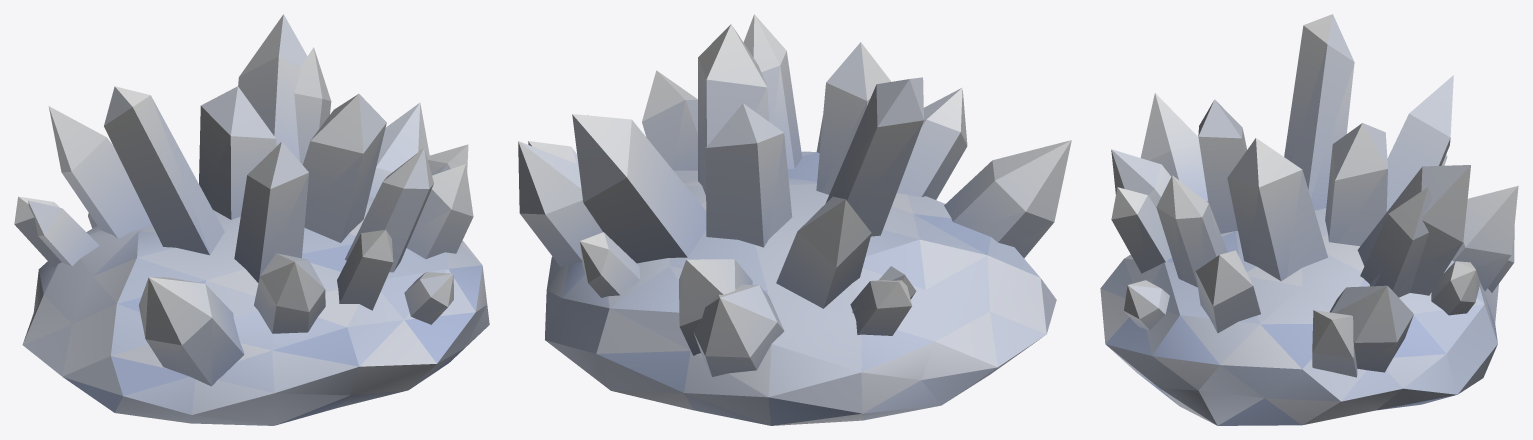
File: crystal_cluster.glb
3 views of the same model, side by side, from view 1: azimuth 30°, elevation 25°; view 2: azimuth 150°, elevation 25°; view 3: azimuth 270°, elevation 25° (orthographic). The views are drawn at different scales.
Visible parts, largest first — view 1: crystal_cluster; view 2: crystal_cluster; view 3: crystal_cluster.
Boxes of the visible parts, box(x1,y1,x2,y2) form: crystal_cluster: box(14, 14, 489, 425); crystal_cluster: box(518, 14, 1071, 425); crystal_cluster: box(1100, 14, 1518, 425).
Bounding box in the file's own units: 1 × 0.6067 × 0.8456.
